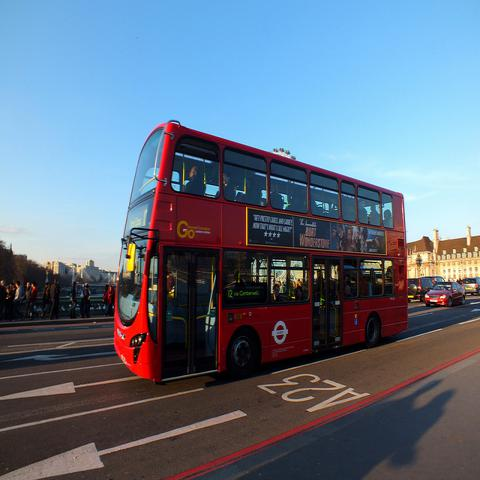bus: (113, 121, 410, 385)
car: (408, 278, 466, 307), (462, 277, 479, 296)
